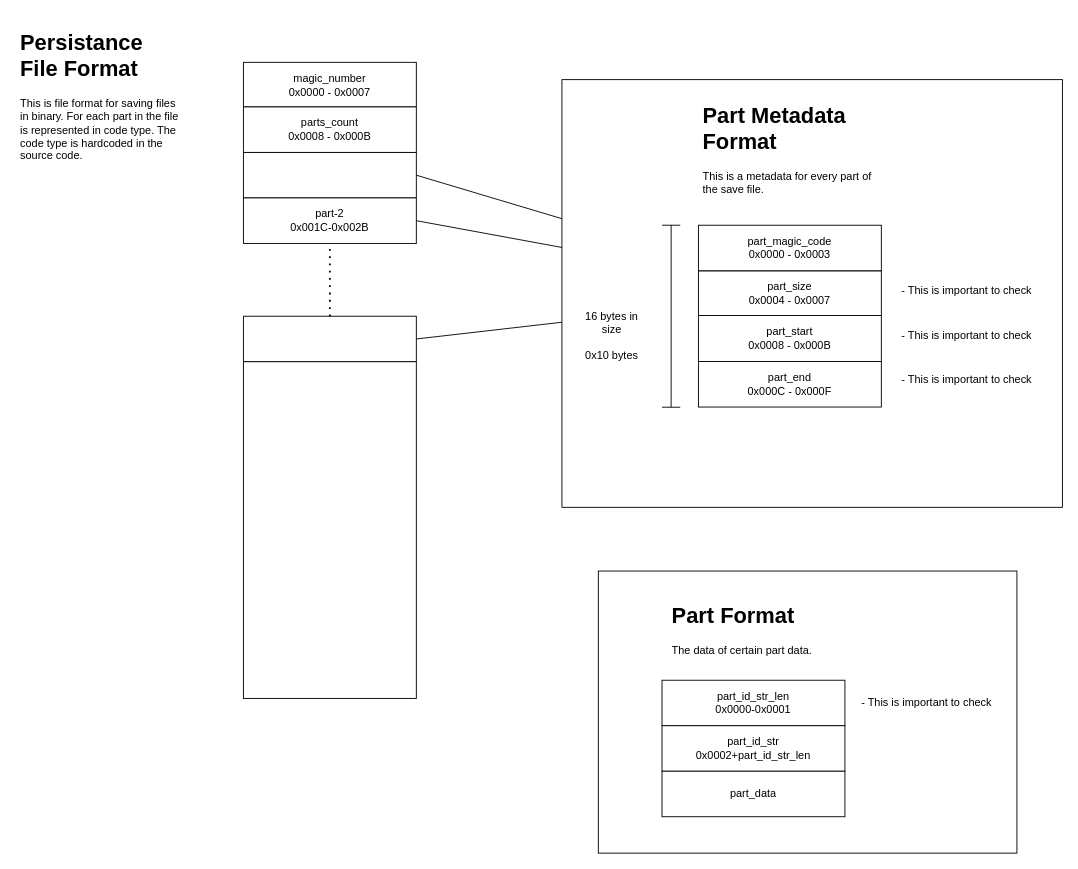
Some shapes in this 1078 by 869 pixel diagram are drawn without their labels. The centre of each missing label's shape, as x and y in pixels:
"data_dump" goes at [329,529].
"part-#" goes at [329,338].
"part-1 0x000C - 0x001B" goes at [329,175].
